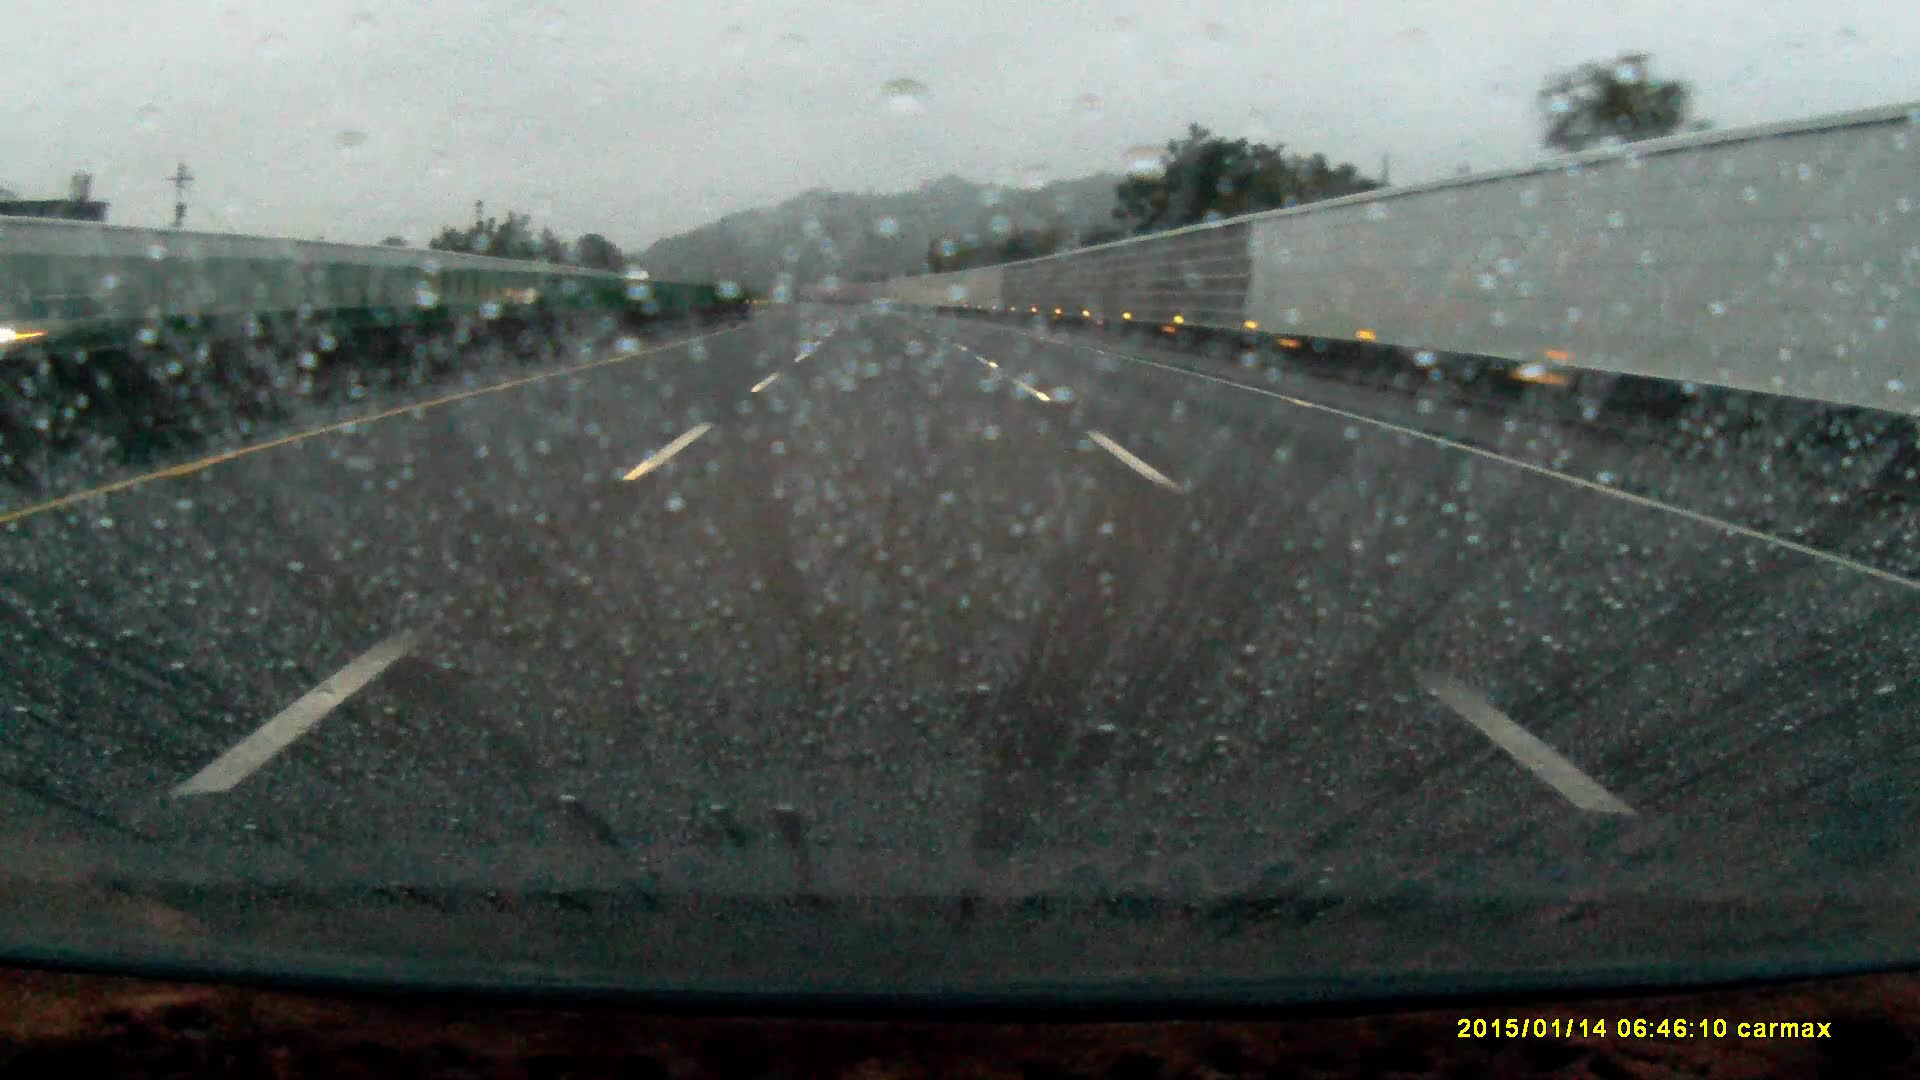vehicle: (28, 293, 94, 353)
